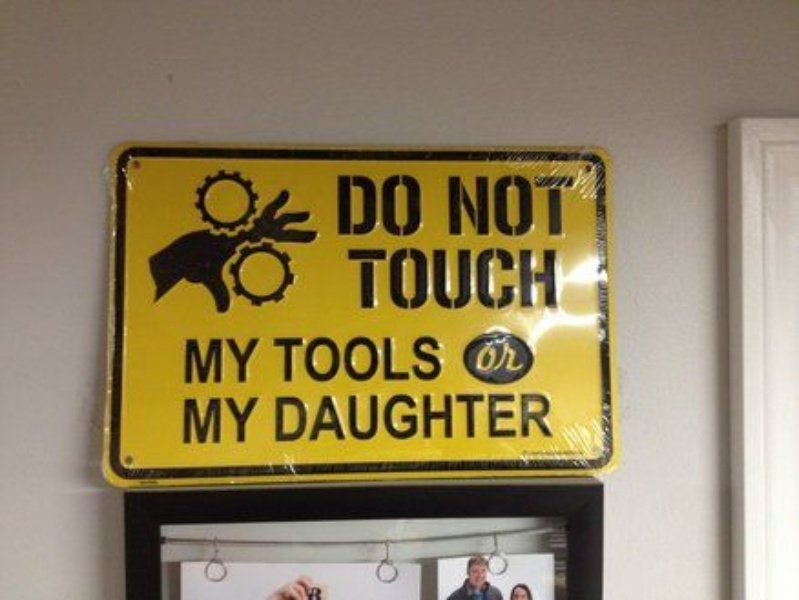text: (353, 247, 368, 311), (369, 247, 384, 311), (385, 247, 400, 311), (401, 247, 416, 311), (417, 247, 432, 311), (433, 247, 448, 311), (449, 247, 464, 311), (465, 247, 480, 311), (481, 247, 496, 311), (497, 247, 512, 311), (513, 247, 528, 311), (529, 247, 544, 311), (337, 174, 352, 236), (353, 174, 368, 236), (369, 174, 384, 236), (385, 174, 400, 236), (401, 174, 416, 236), (449, 174, 464, 236), (465, 174, 480, 236), (481, 174, 496, 236), (497, 174, 512, 236), (513, 174, 528, 236), (529, 174, 544, 236), (545, 174, 560, 236), (545, 247, 559, 311), (561, 174, 575, 236), (193, 394, 208, 444), (209, 394, 224, 444), (225, 394, 240, 444), (241, 394, 256, 444), (193, 336, 208, 385), (209, 336, 224, 385), (225, 336, 240, 385), (241, 336, 256, 385), (289, 393, 304, 442), (305, 393, 320, 442), (321, 393, 336, 442), (337, 393, 352, 442), (353, 393, 368, 442), (369, 393, 384, 442), (385, 393, 400, 442), (401, 393, 416, 442), (417, 393, 432, 442), (433, 393, 448, 442), (449, 393, 464, 442), (465, 393, 480, 442), (481, 393, 496, 442), (497, 393, 512, 442), (513, 393, 528, 442), (529, 393, 544, 442), (273, 334, 288, 382), (289, 334, 304, 382), (305, 334, 320, 382), (321, 334, 336, 382), (337, 334, 352, 382), (353, 334, 368, 382), (369, 334, 384, 382), (385, 334, 400, 382), (401, 334, 416, 382), (417, 334, 432, 382), (274, 393, 288, 442), (181, 394, 192, 444), (433, 334, 444, 382), (481, 340, 496, 374), (497, 340, 512, 374), (345, 247, 352, 311), (513, 340, 526, 374), (183, 336, 192, 385), (545, 393, 553, 442), (417, 174, 422, 236), (473, 340, 480, 374), (257, 394, 260, 444), (257, 336, 260, 385), (334, 174, 336, 236), (447, 174, 448, 236)
